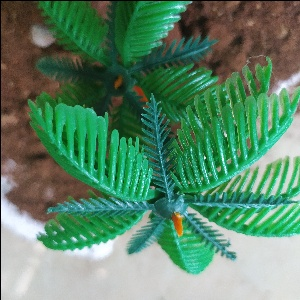plant: (33, 1, 300, 275)
